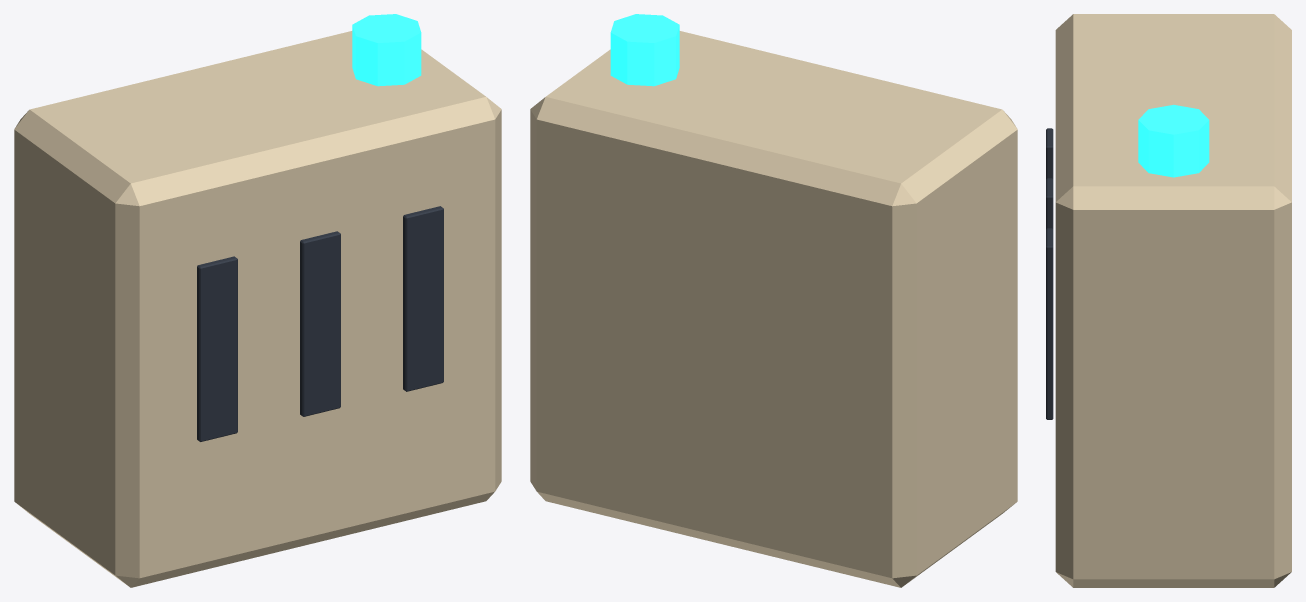
Rendered from street_021_seed11.glb.
3 views of the same model, side by side, from view 1: azimuth 30°, elevation 25°; view 2: azimuth 150°, elevation 25°; view 3: azimuth 270°, elevation 25° (orthographic).
Parts seen in each view (by area): view 1: street_021_seed11; view 2: street_021_seed11; view 3: street_021_seed11.
Boxes of the visible parts, x1=… form: street_021_seed11: x1=14, y1=14, x2=501, y2=587; street_021_seed11: x1=530, y1=14, x2=1017, y2=587; street_021_seed11: x1=1046, y1=14, x2=1291, y2=587.
Size of the model in its own units: 1.5 by 1.66 by 0.8325.
